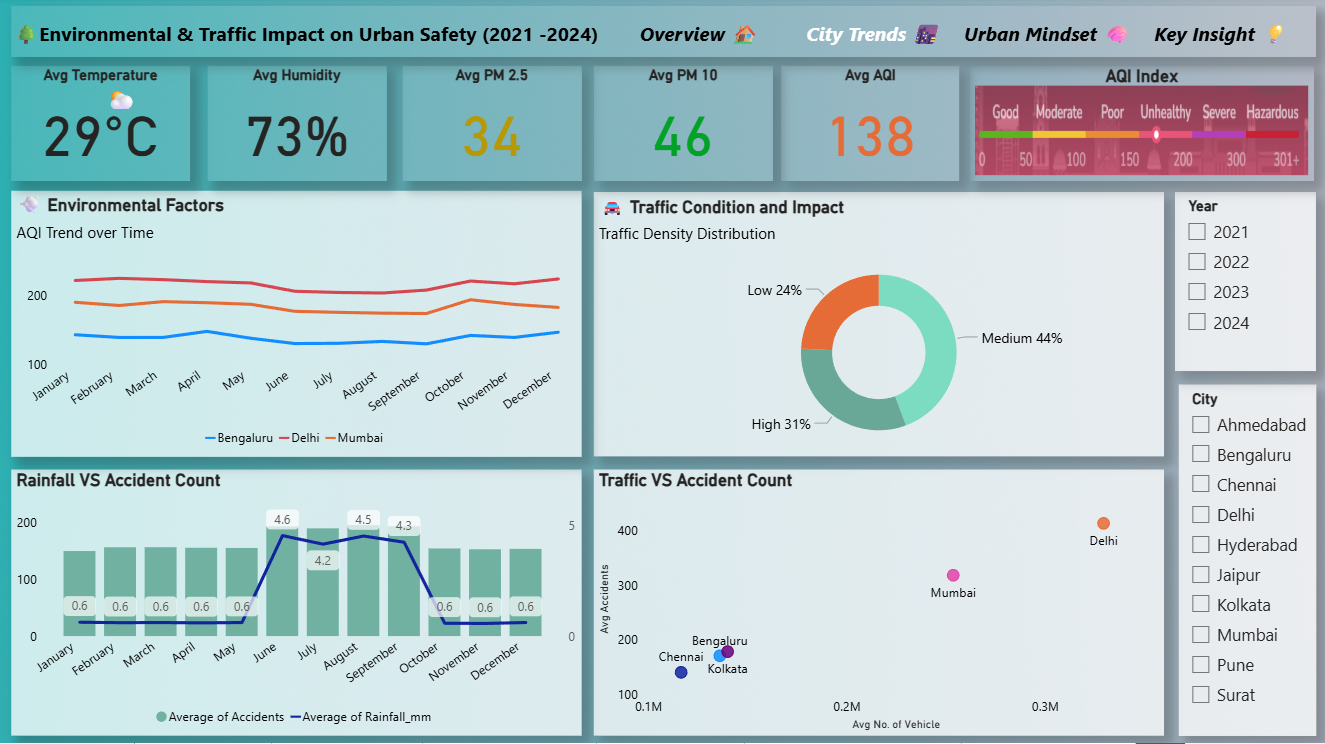

This screenshot's page, from the dashboard's own definition file:
{"tool":"powerbi","page":{"name":"City Trends 🌆","canvas":[1280,720],"ordinal":1},"visuals":[{"type":"shape","box":[11.1,8.6,1259.3,49.4],"z":0},{"type":"donutChart","title":"🚘 Traffic Condition and Impact","fields":{"Category":["Data.Traffic_Density"],"Y":["Sum(Data.Vehicle_count)"]},"box":[572.8,187.7,550.6,255.6],"z":1000},{"type":"lineClusteredColumnComboChart","title":"Rainfall  VS Accident Count","fields":{"Category":["Date Table.Month Name"],"Y":["Avg(Data.Accidents)"],"Y2":["Avg(Data.Rainfall_mm)"]},"box":[10.9,456,550.1,257],"z":2000},{"type":"lineChart","title":"💨 Environmental Factors","fields":{"Category":["Date Table.Month Name"],"Series":["Data.City"],"Y":["Data.Avg AQI"]},"box":[10.9,187,550.1,257],"z":3000},{"type":"scatterChart","title":"Traffic VS Accident Count","fields":{"X":["Data.Vehicle_count"],"Y":["Data.Accident_reported"],"Category":["Data.City"]},"box":[572.8,455.6,550.6,256.8],"z":4000},{"type":"textbox","box":[0,18.1,589.9,36.2],"z":5000},{"type":"pageNavigator","box":[589.9,13.3,674.4,44.6],"z":6000},{"type":"slicer","fields":{"Values":["Medians.City"]},"box":[1138.3,374.1,129.6,339.5],"z":7000},{"type":"slicer","fields":{"Values":["Date Table.Year"]},"box":[1134.6,187.7,129.6,172.8],"z":8000},{"type":"card","title":"Avg Temperature","fields":{"Values":["Data.Avg Temperature Display"]},"box":[10.9,66.4,172.5,111],"z":9000},{"type":"card","title":"Avg Humidity","fields":{"Values":["Data.Average Humidity"]},"box":[200.3,66.4,172.5,111],"z":10000},{"type":"card","title":"Avg PM 2.5 ","fields":{"Values":["Avg(Medians.PM2.5)"]},"box":[388.5,66.4,172.5,111],"z":11000},{"type":"card","title":"Avg PM 10","fields":{"Values":["Avg(Medians.PM10)"]},"box":[573.1,66.4,172.5,111],"z":12000},{"type":"image","title":"AQI Index","box":[918.5,66.7,349.4,111.1],"z":13000},{"type":"card","title":"Avg AQI","fields":{"Values":["Data.Avg AQI"]},"box":[754,66.4,149.6,111],"z":14000},{"type":"textbox","box":[97.7,77.2,48.3,44.6],"z":15000}]}

Visuals, with their boxes in screenshot pixels (x1, y1, x2, y2), scaled from the page's 1280x720 canvas onto the 1325x744 screenshot:
shape: {"left": 11, "top": 9, "right": 1315, "bottom": 60}
"🚘 Traffic Condition and Impact" donutChart: {"left": 593, "top": 194, "right": 1163, "bottom": 458}
"Rainfall  VS Accident Count" lineClusteredColumnComboChart: {"left": 11, "top": 471, "right": 581, "bottom": 737}
"💨 Environmental Factors" lineChart: {"left": 11, "top": 193, "right": 581, "bottom": 459}
"Traffic VS Accident Count" scatterChart: {"left": 593, "top": 471, "right": 1163, "bottom": 736}
textbox: {"left": 0, "top": 19, "right": 611, "bottom": 56}
pageNavigator: {"left": 611, "top": 14, "right": 1309, "bottom": 60}
slicer - Medians.City: {"left": 1178, "top": 387, "right": 1312, "bottom": 737}
slicer - Date Table.Year: {"left": 1174, "top": 194, "right": 1309, "bottom": 373}
"Avg Temperature" card: {"left": 11, "top": 69, "right": 190, "bottom": 183}
"Avg Humidity" card: {"left": 207, "top": 69, "right": 386, "bottom": 183}
"Avg PM 2.5 " card: {"left": 402, "top": 69, "right": 581, "bottom": 183}
"Avg PM 10" card: {"left": 593, "top": 69, "right": 772, "bottom": 183}
"AQI Index" image: {"left": 951, "top": 69, "right": 1312, "bottom": 184}
"Avg AQI" card: {"left": 781, "top": 69, "right": 935, "bottom": 183}
textbox: {"left": 101, "top": 80, "right": 151, "bottom": 126}
